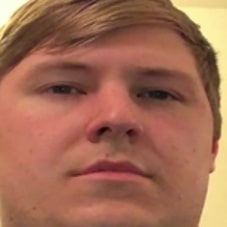drowsy: (22, 54, 203, 201)
